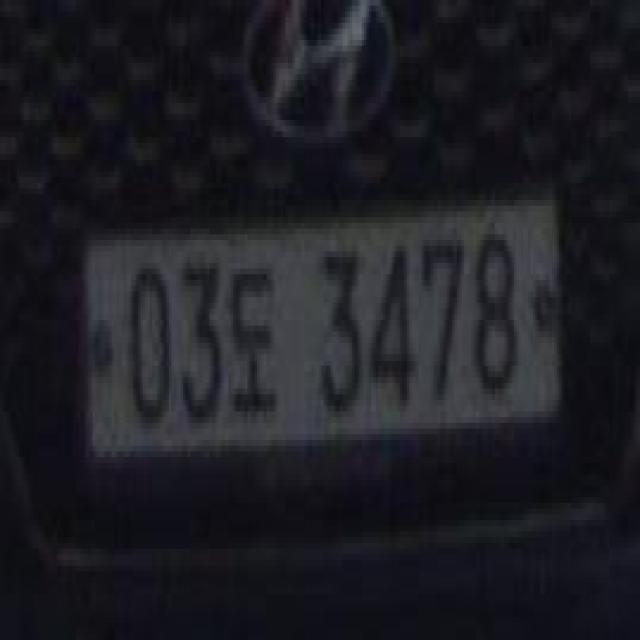illegal_plate: (80, 184, 568, 480)
